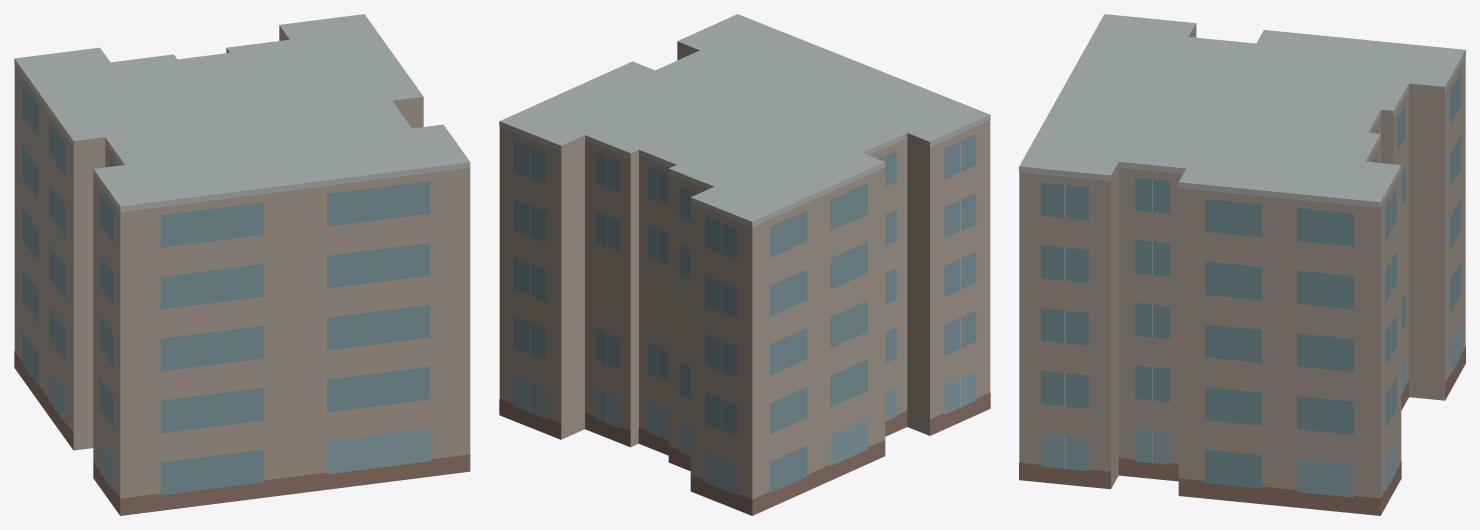
The model's file is survey-upis-32545941.glb.
3 renders of one model, left to right at view 1: azimuth 30°, elevation 25°; view 2: azimuth 150°, elevation 25°; view 3: azimuth 270°, elevation 25°, orthographic. The views are drawn at different scales.
Parts seen in each view (by area): view 1: survey-upis-32545941.tmp; view 2: survey-upis-32545941.tmp; view 3: survey-upis-32545941.tmp.
Boxes of the visible parts, bbox=[...] form: survey-upis-32545941.tmp: bbox=[14, 14, 470, 515]; survey-upis-32545941.tmp: bbox=[499, 14, 990, 515]; survey-upis-32545941.tmp: bbox=[1019, 14, 1465, 515].
Bounding box in the file's own units: 17.06 × 13.25 × 17.11.
